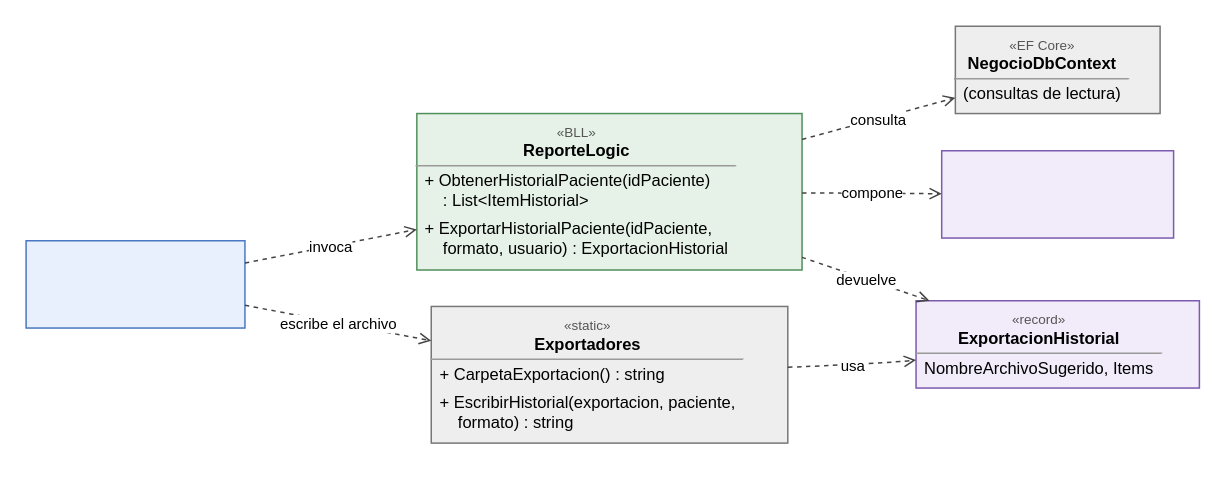
Image size: 1227x477. Some labels were removed from this diagram. The centre of each missing label's shape, as x and y in pixels:
«record» ItemHistorial Fecha, Tipo, Descripcion: (1057,193)
«UserControl» ReportesControl (historial y exportación): (135,283)
